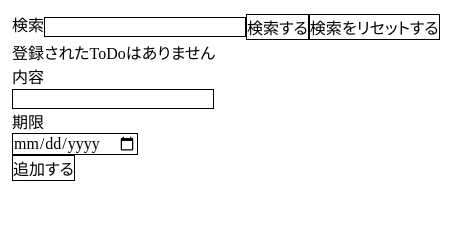
Test case: ToDoPage ToDo完了状態変更機能 › ToDoの完了状態を変更できる（完了にする）
Type "掃除をする" into the field labelled "内容" at coordinates (113, 99), box x1=12 y1=89 x2=214 y2=109
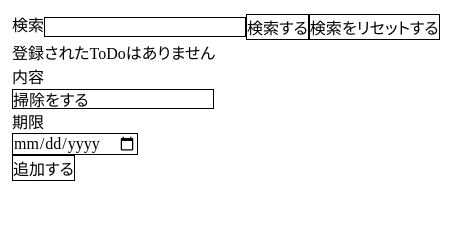
Type "2025-12-31" into the date field labelled "期限" at coordinates (75, 144), box x1=12 y1=133 x2=138 y2=155
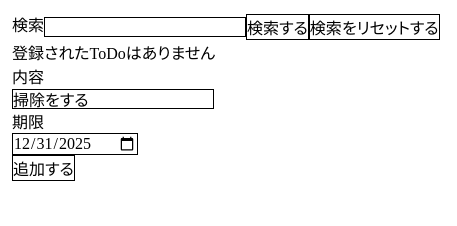
Click the button "追加する" at coordinates (43, 168), box x1=12 y1=155 x2=75 y2=181
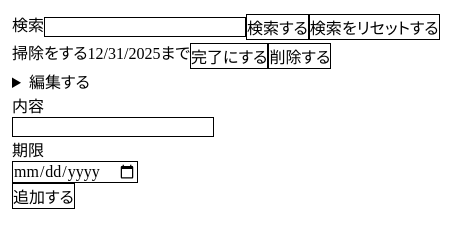
Click the button "完了にする" at coordinates (229, 56), box x1=190 y1=43 x2=268 y2=69
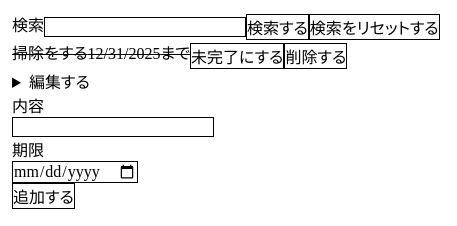
Result: the button "未完了にする" is shown at x1=190 y1=43 x2=284 y2=69
